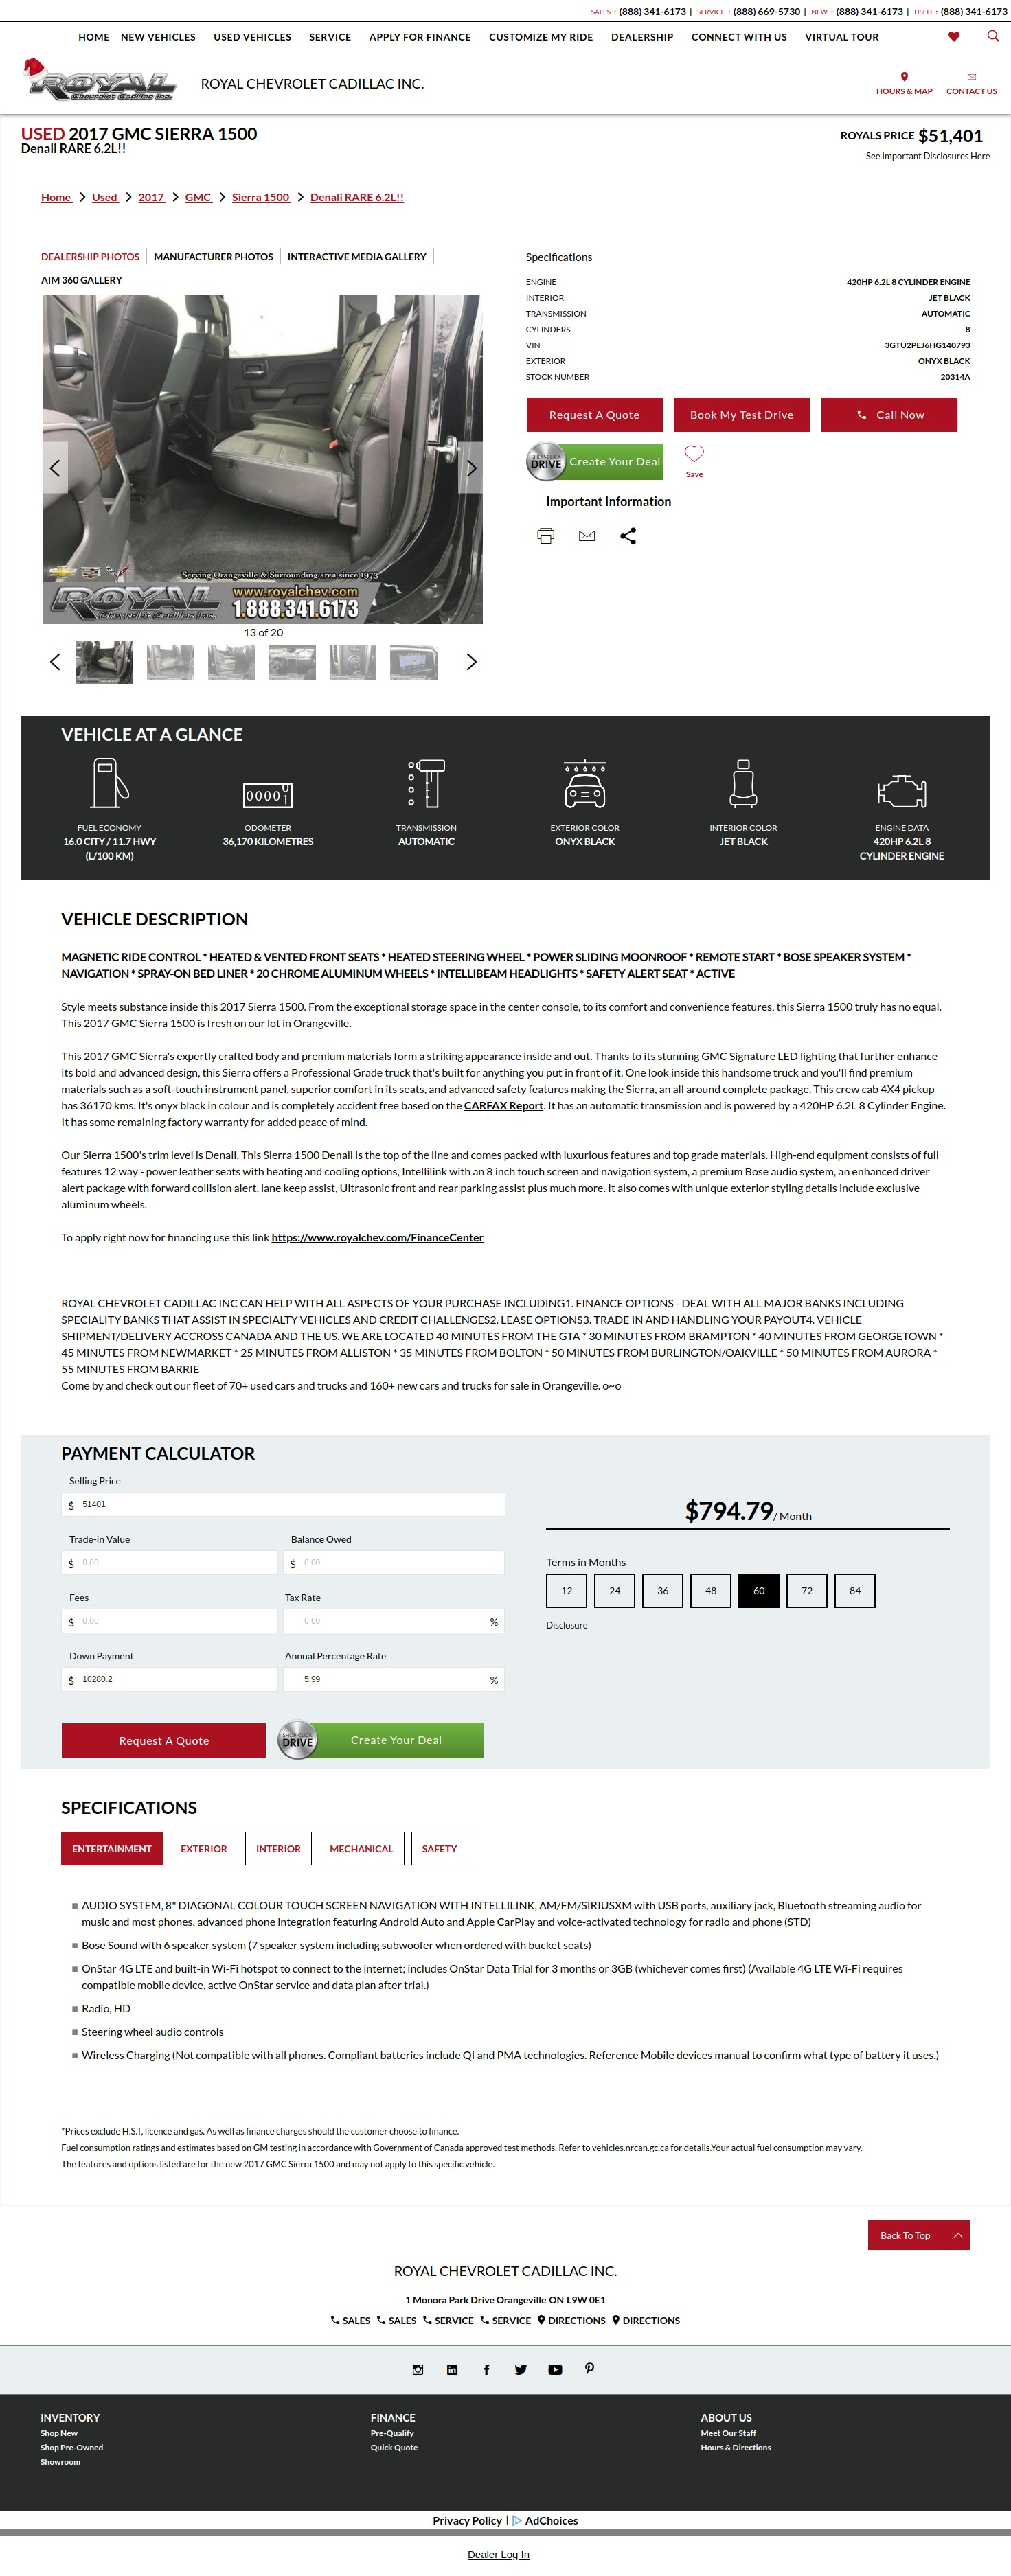car: (467, 654, 478, 670)
